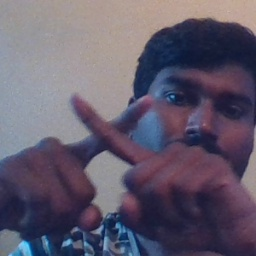X: (41, 86, 183, 224)
